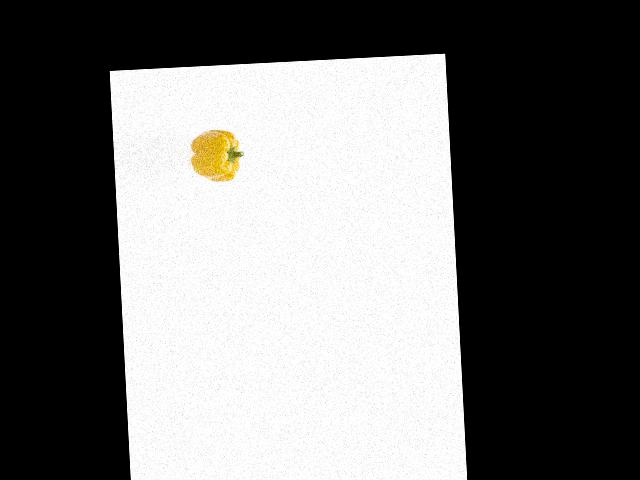bell_pepper: (188, 128, 247, 187)
